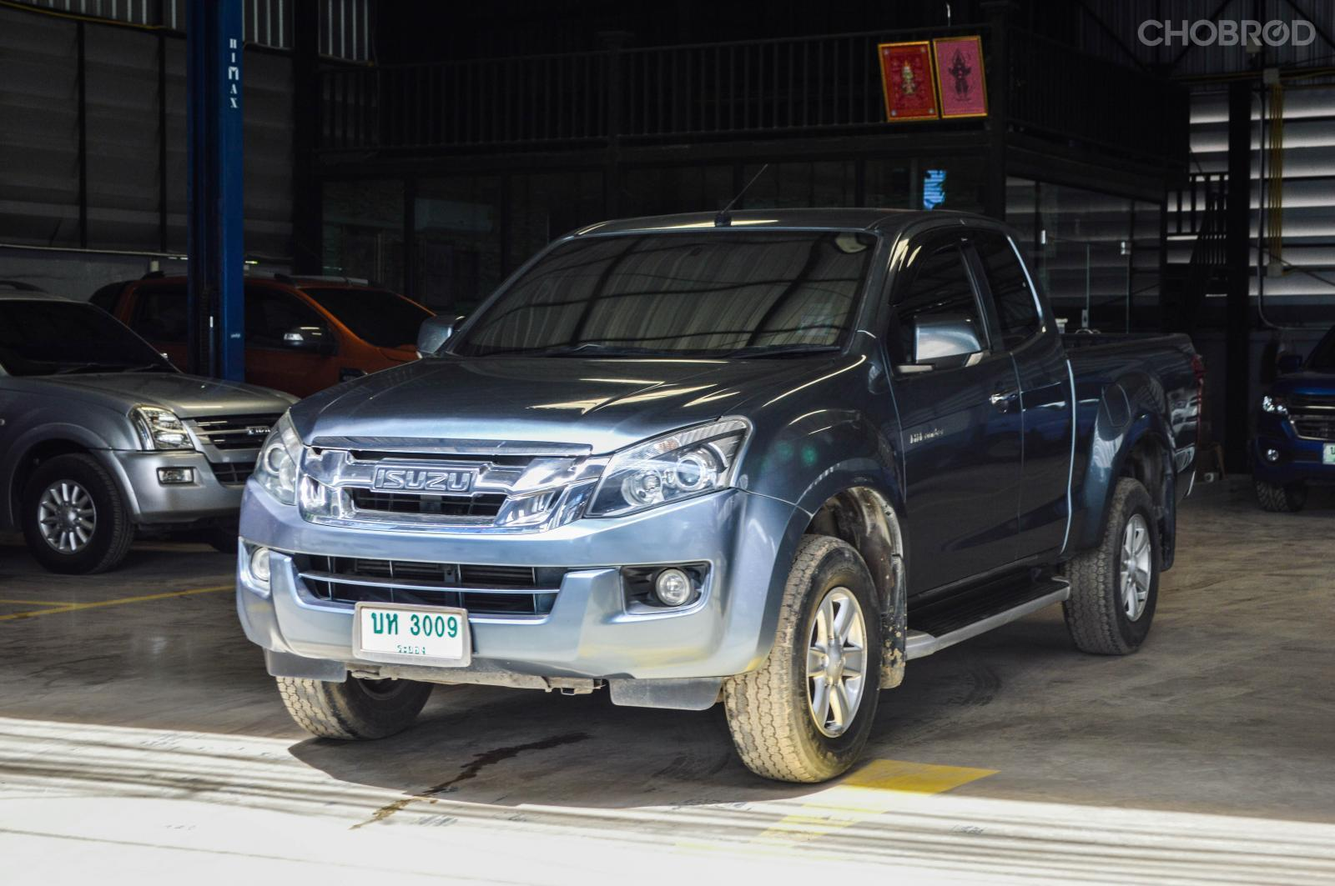license-plate: (353, 602, 472, 667)
